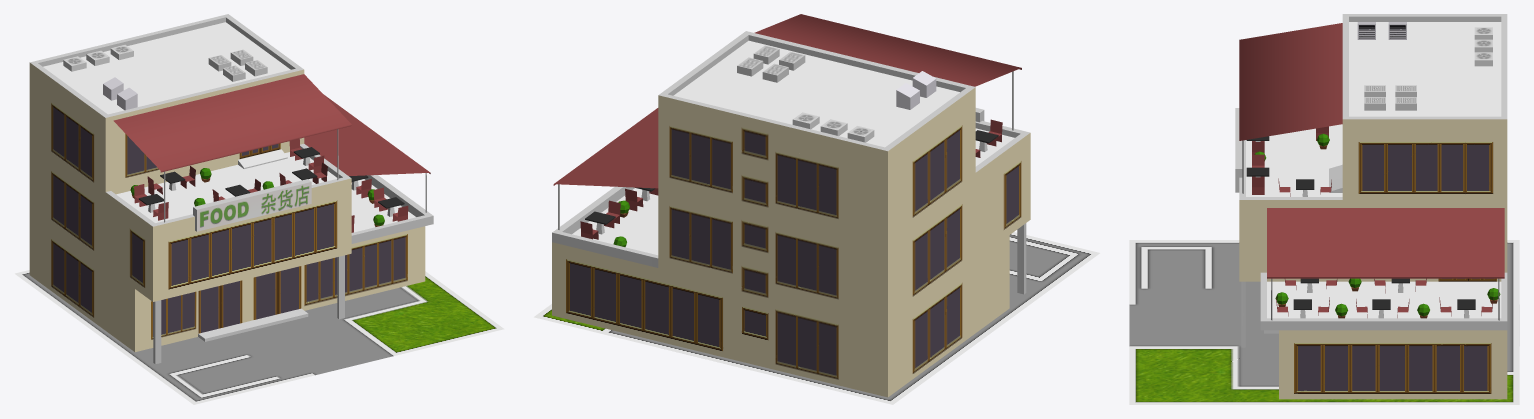
The model's file is Supermarket_lvl_5.fbx.
3 views of the same model, side by side, from view 1: azimuth 30°, elevation 25°; view 2: azimuth 150°, elevation 25°; view 3: azimuth 270°, elevation 25° (orthographic). The views are drawn at different scales.
Parts seen in each view (by area): view 1: Supermarket_Lvl_5, Supermarket_BG, Supermarket_Lvl_2.001; view 2: Supermarket_Lvl_5, Supermarket_Lvl_2.001, Supermarket_BG; view 3: Supermarket_Lvl_5, Supermarket_Lvl_2.001, Supermarket_BG.
Part boxes in pixels (bbox=[...]): Supermarket_Lvl_5: bbox=[29, 14, 433, 364]; Supermarket_BG: bbox=[15, 270, 504, 404]; Supermarket_Lvl_2.001: bbox=[113, 74, 430, 232]; Supermarket_Lvl_5: bbox=[552, 31, 1030, 397]; Supermarket_Lvl_2.001: bbox=[553, 14, 1021, 239]; Supermarket_BG: bbox=[534, 232, 1099, 404]; Supermarket_Lvl_5: bbox=[1235, 14, 1507, 399]; Supermarket_Lvl_2.001: bbox=[1239, 23, 1504, 317]; Supermarket_BG: bbox=[1129, 240, 1519, 404].
Bounding box in the file's own units: 2000 × 1370 × 2000.
